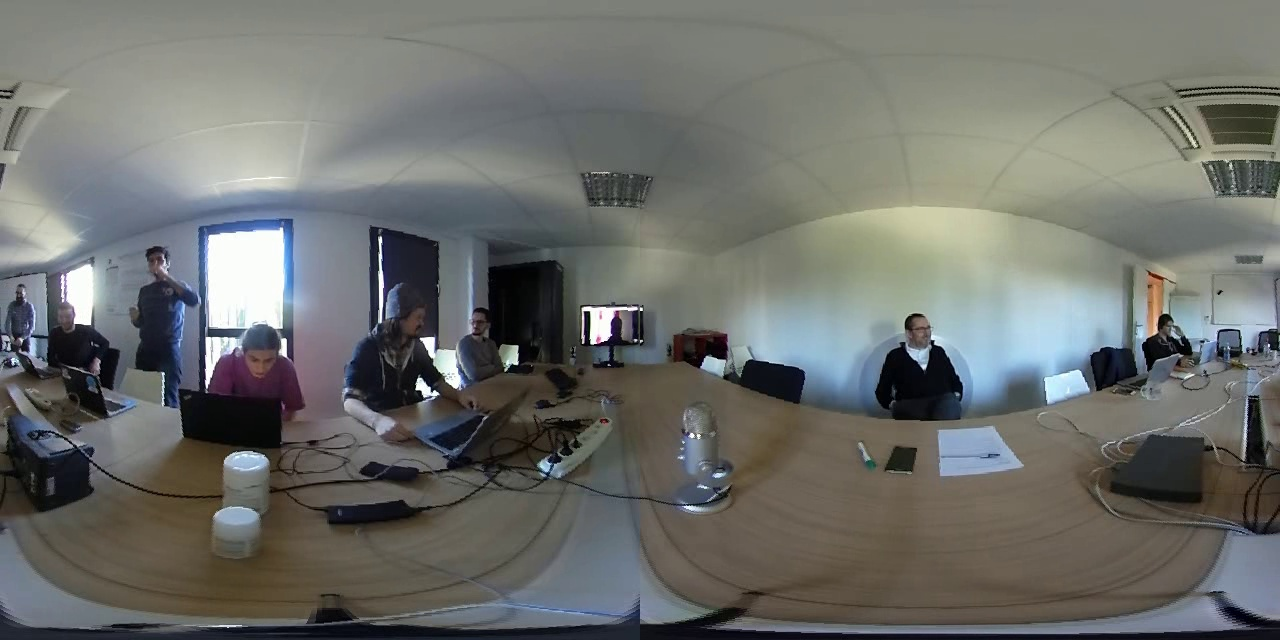person: (338, 276, 441, 419), (113, 242, 208, 374), (869, 301, 967, 419), (211, 321, 305, 409), (451, 303, 514, 383), (38, 295, 98, 360), (1131, 307, 1198, 363), (1, 279, 32, 357), (588, 310, 632, 344)
